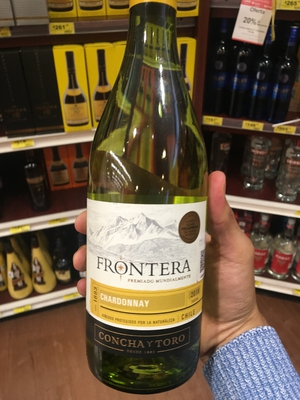frontera chardonnay: (73, 3, 236, 400)
